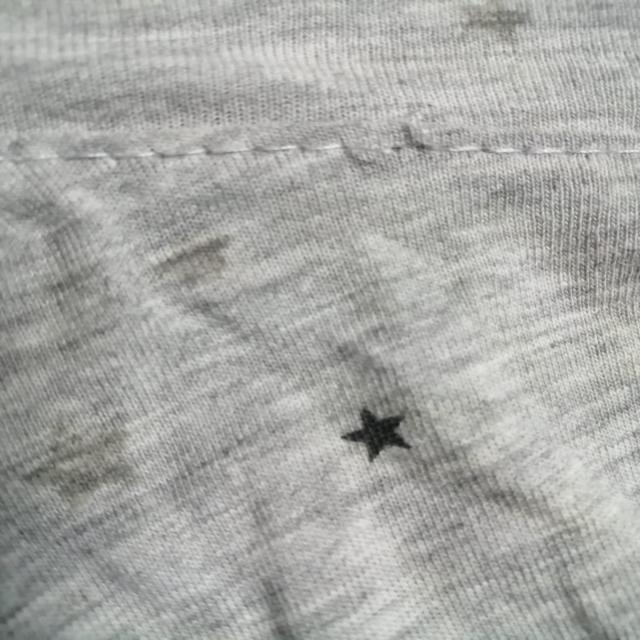gray stitch: (6, 136, 640, 172)
